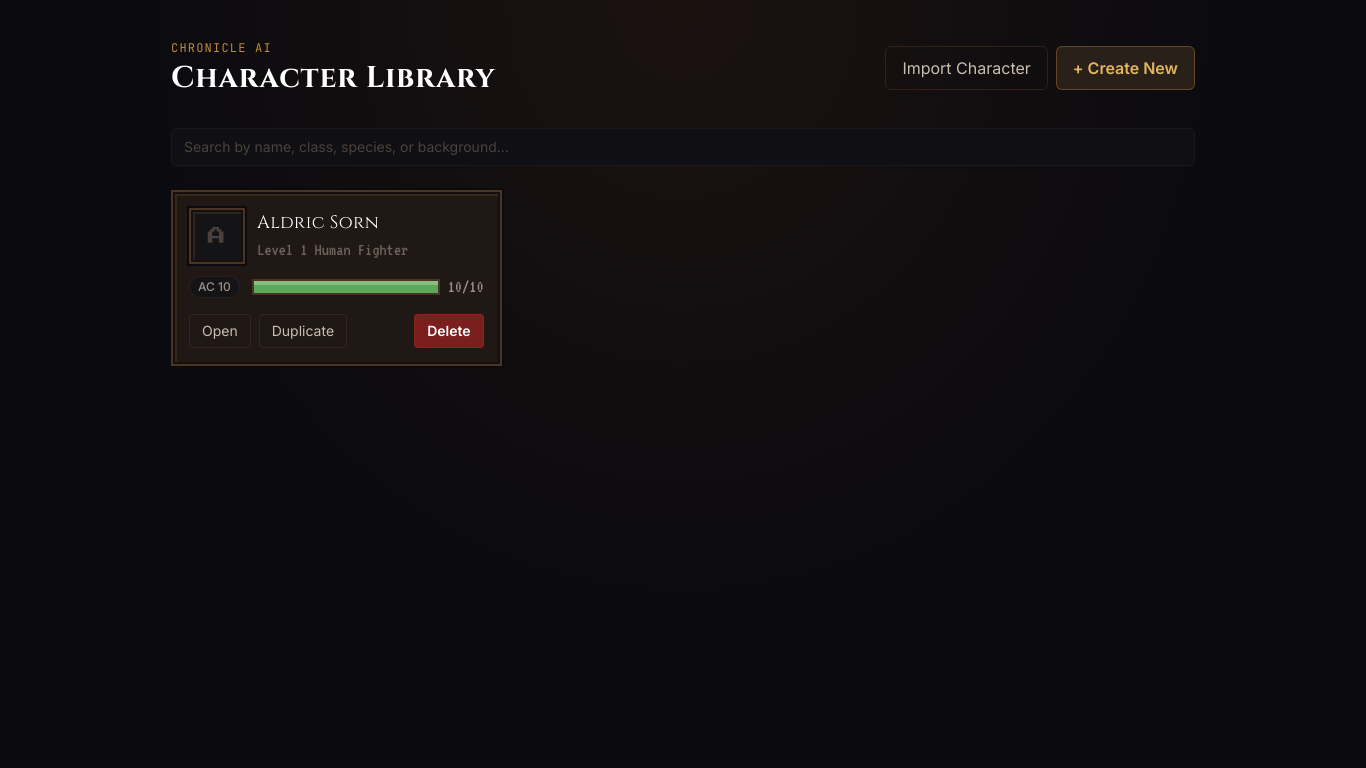
Test: CharacterLibraryPage — delete › closes the dialog without deleting when cancelled
The width and height of the screenshot is (1366, 768).
expect the heading "Aldric Sorn" is shown: met, box [257, 210, 379, 235]
Click the button "Delete". click: (449, 331)
box: [414, 314, 484, 348]
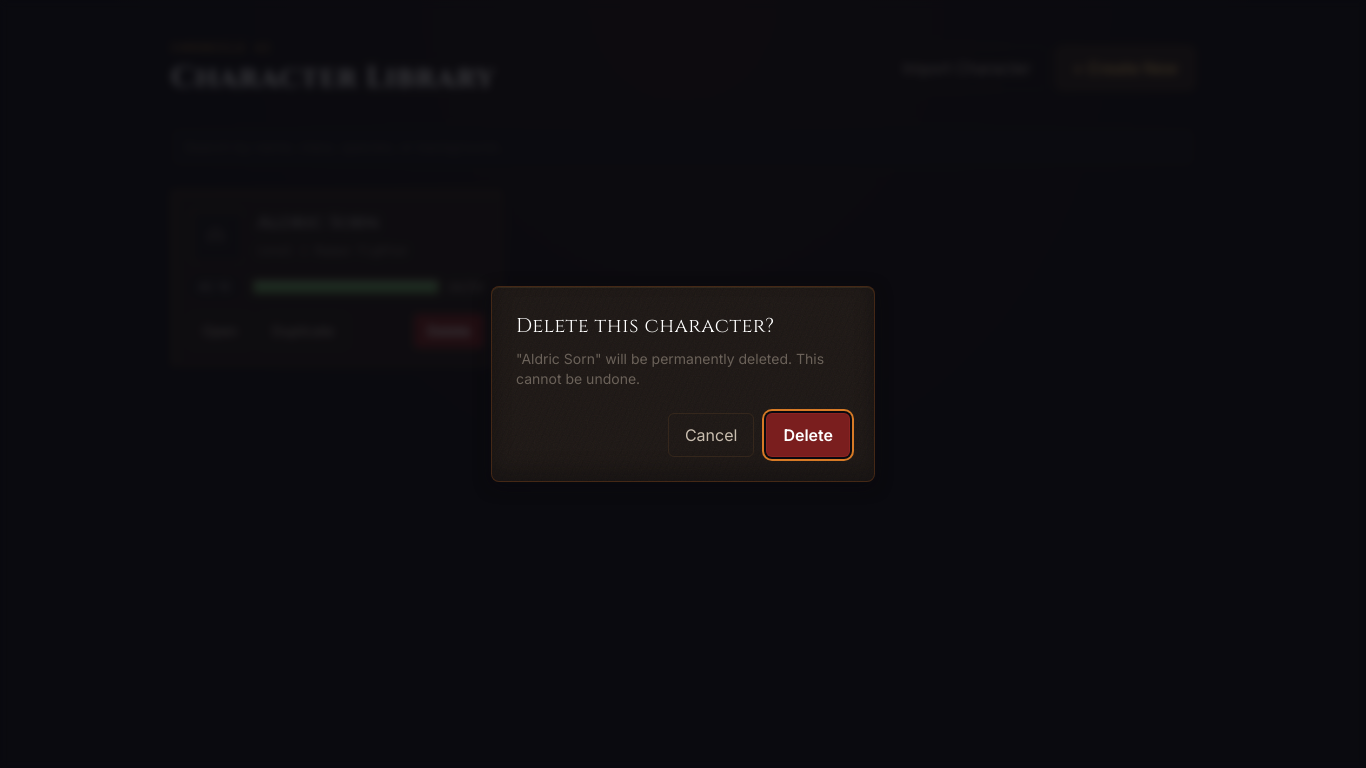
Click the button "Cancel". click: (711, 435)
box: [668, 413, 754, 457]
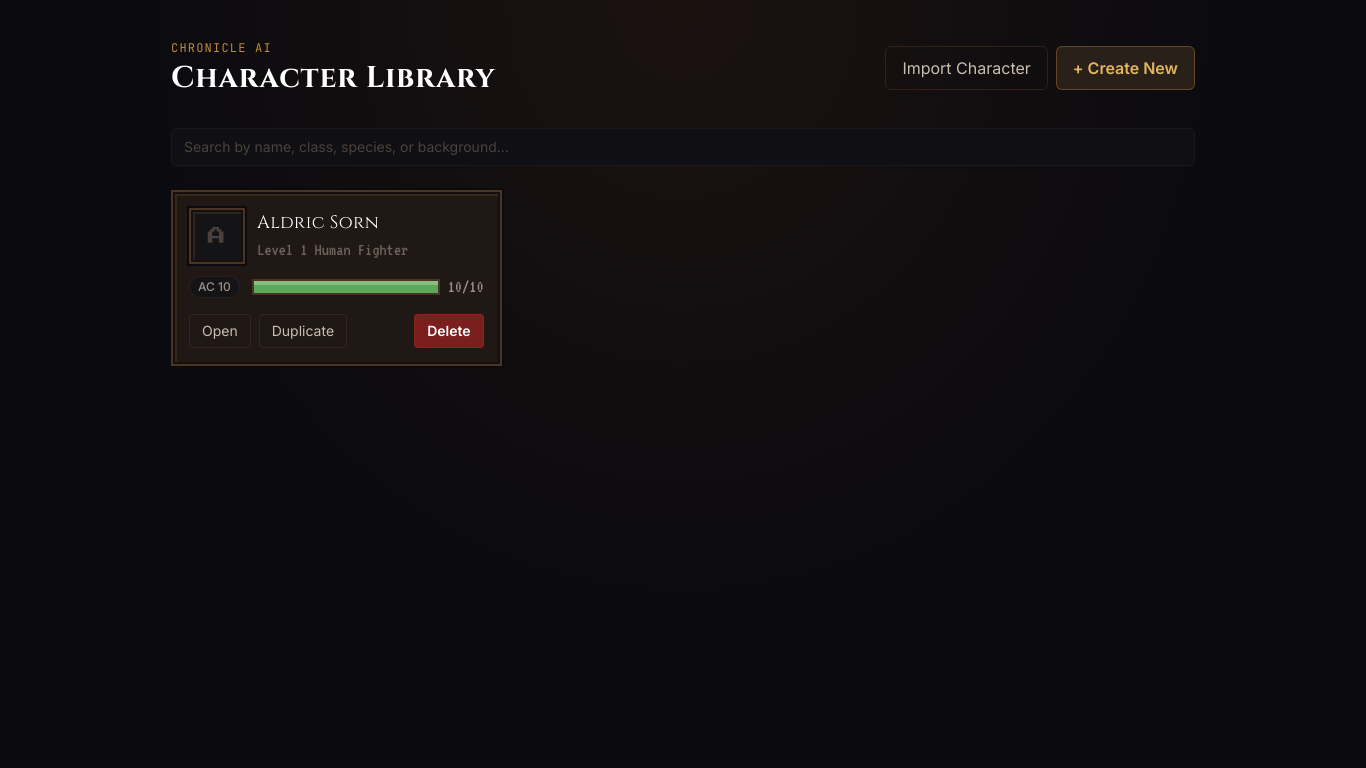
expect the heading "Aldric Sorn" is shown: met, box [257, 210, 379, 235]
expect the dialog is gone: met
